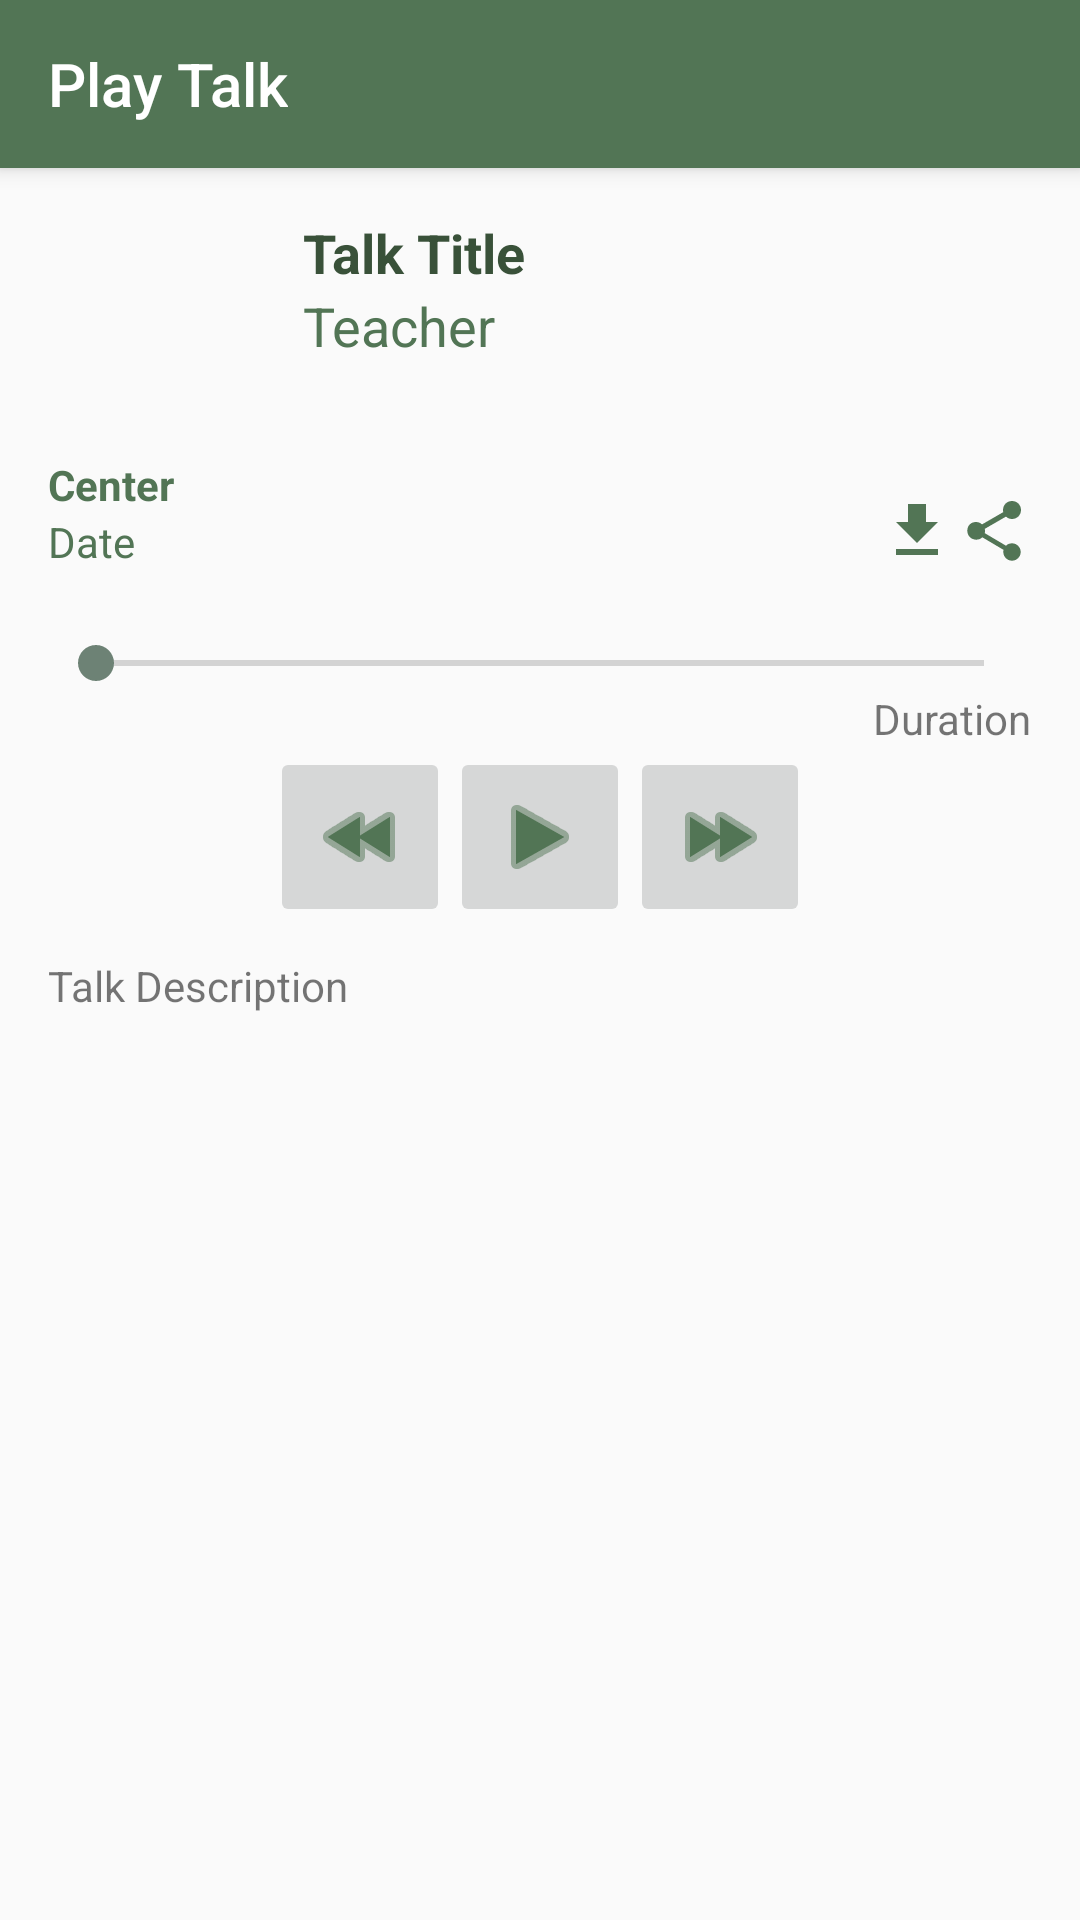

Locate icon controls on the screen. Image size 1080 x 1920, boxes as (x1, y1, x2, y2).
Download Talk: (896, 504, 938, 555)
play: (462, 765, 618, 909)
rew: (282, 765, 438, 909)
Share Talk: (967, 501, 1021, 561)
